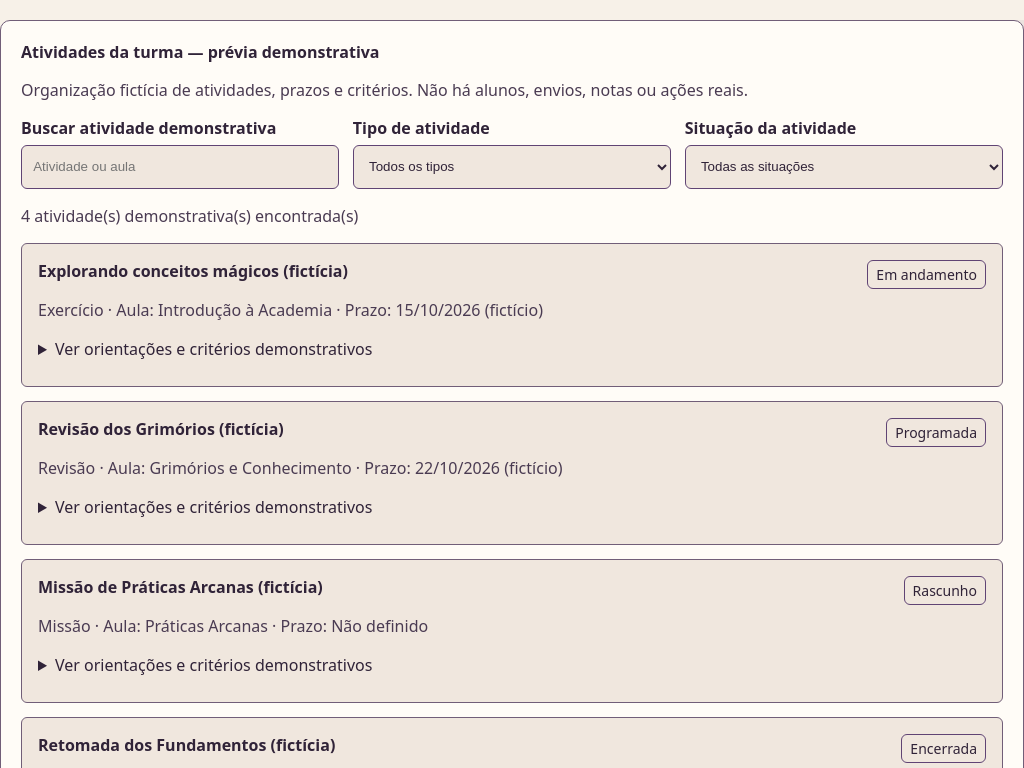
Professor → Turma A → Atividades (prévia) › combines type, state and keyword filters, then shows empty state
Select "Exercício" in the dropdown labelled "Tipo de atividade" at (512, 167), box [353, 145, 671, 189]
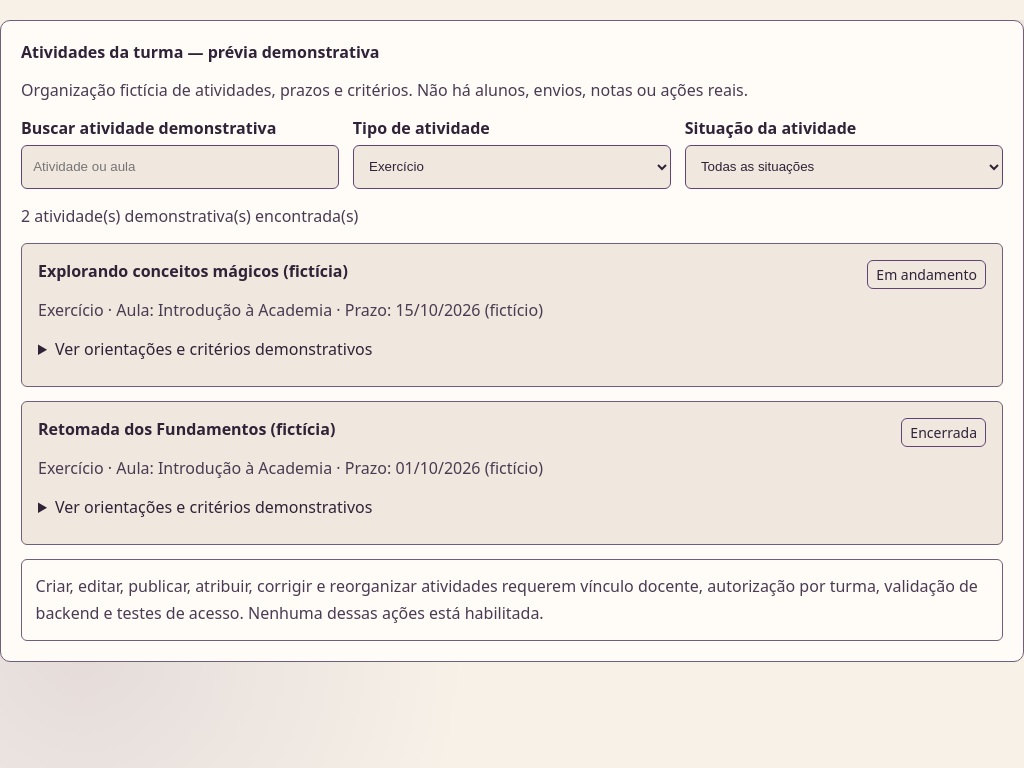
Result: the text "2 atividade(s) demonstrativa(s) encontrada(s)" is shown at [21, 205, 358, 227]
Select "Encerrada" in the dropdown labelled "Situação da atividade" at (844, 167), box [685, 145, 1003, 189]
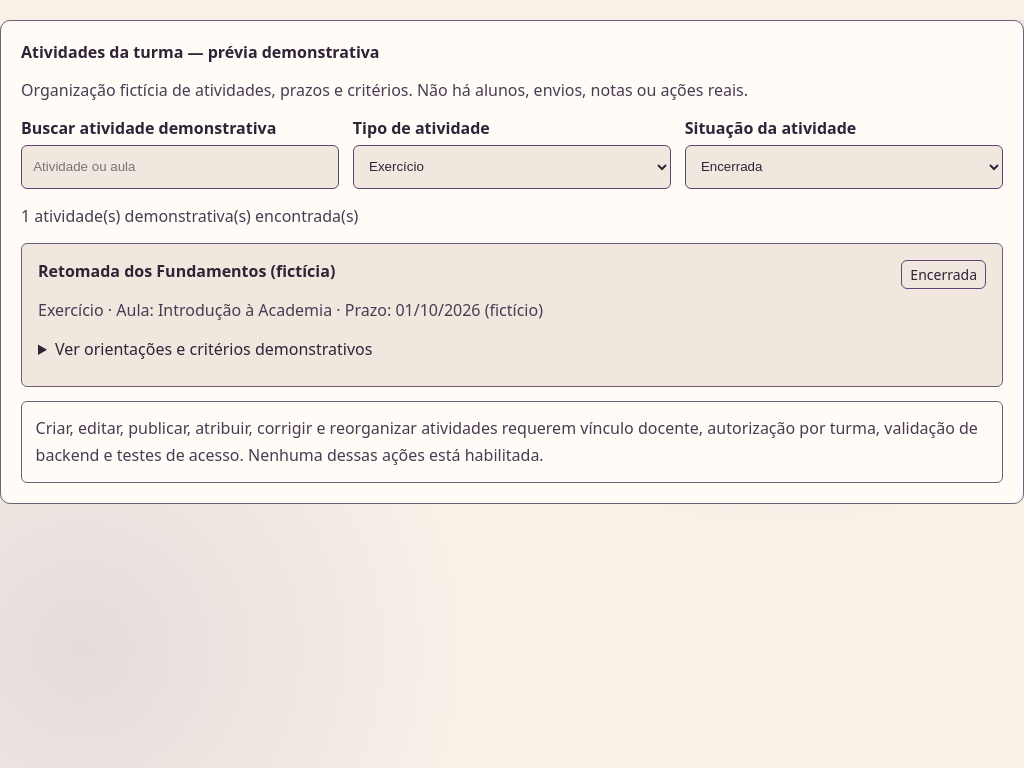
Expected: the text "Retomada dos Fundamentos (fictícia)" is shown, [38, 260, 335, 282]
Result: the text "1 atividade(s) demonstrativa(s) encontrada(s)" is shown at [21, 205, 358, 227]
Type "sem correspondência" into the search field labelled "Buscar atividade demonstrativa" at (180, 167), box [21, 145, 339, 189]
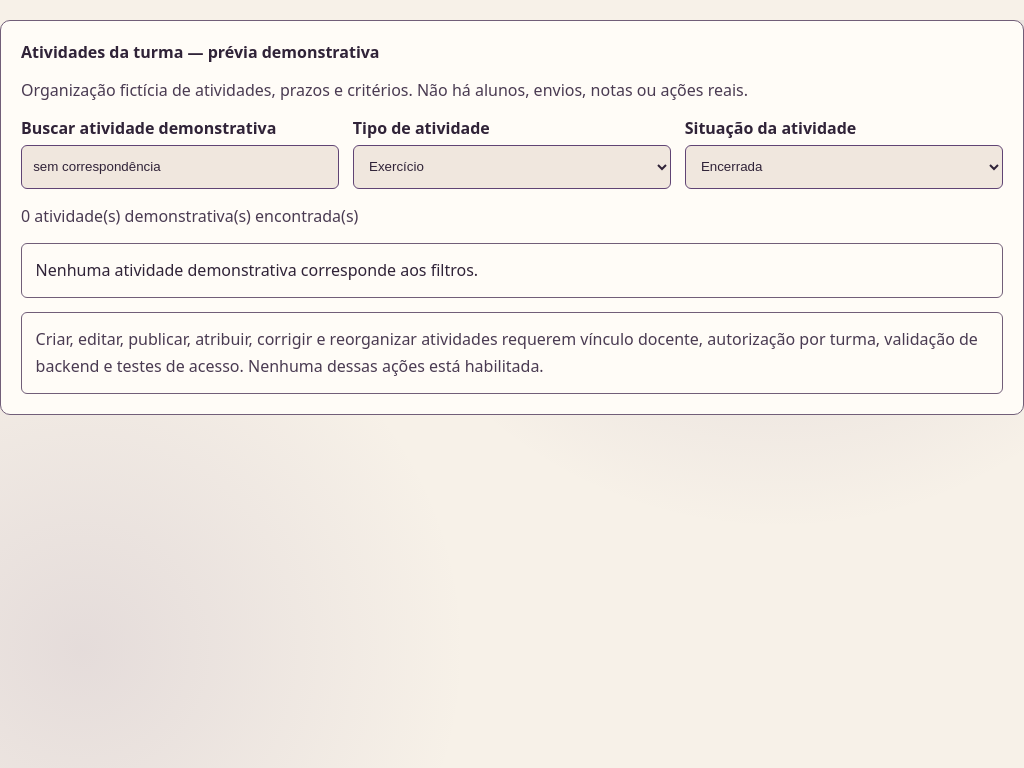
Result: the text "0 atividade(s) demonstrativa(s) encontrada(s)" is shown at [21, 205, 358, 227]
Result: the text "Nenhuma atividade demonstrativa corresponde aos filtros." is shown at [21, 242, 1003, 298]
